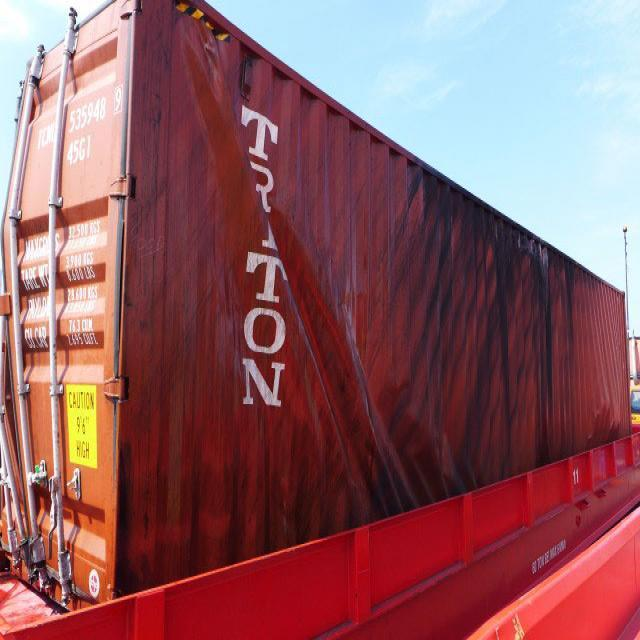Deframe_or_Dent: (0, 13, 117, 589), (236, 150, 400, 479)
